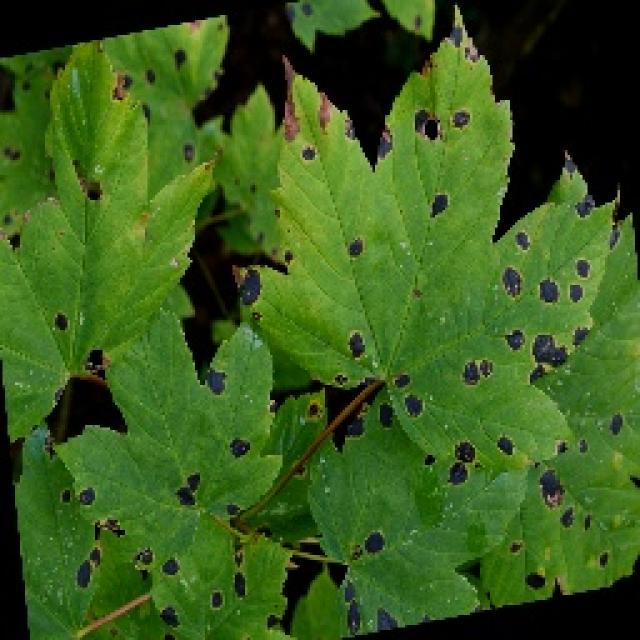Tar_Spot: (8, 66, 640, 640)
